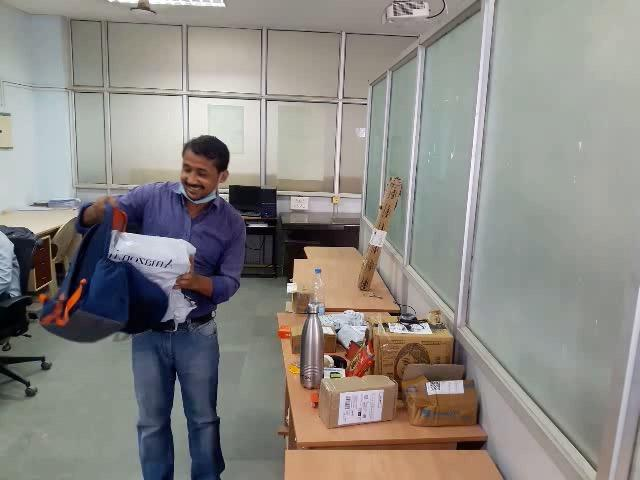shoplifting: (14, 176, 234, 423)
